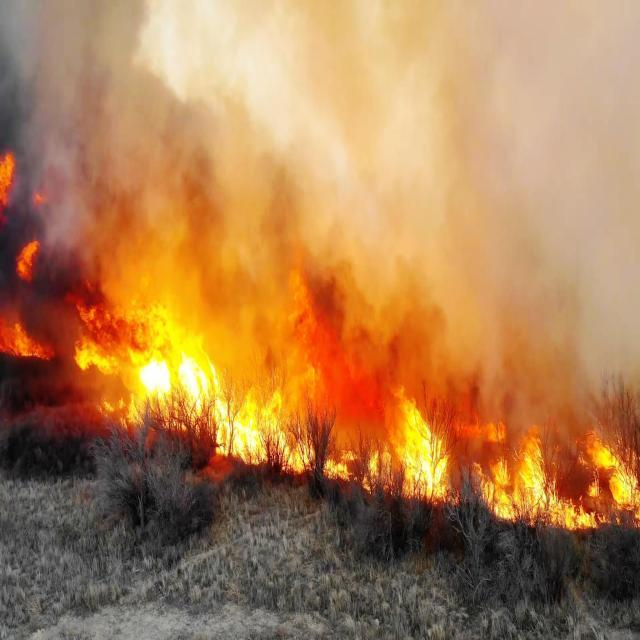Fire: (122, 314, 217, 448), (485, 426, 561, 536), (206, 380, 286, 470), (398, 412, 451, 501), (592, 434, 640, 512)
Smoke: (428, 11, 582, 372), (0, 1, 179, 208), (270, 152, 344, 310)
